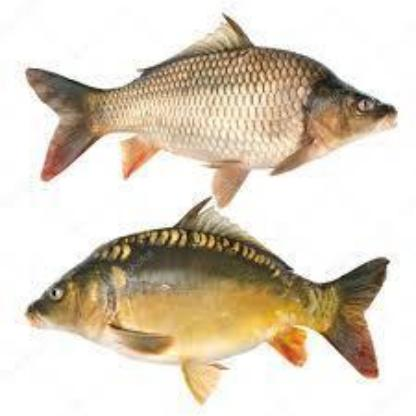ikan-mas: (22, 218, 394, 374), (28, 42, 400, 186)
